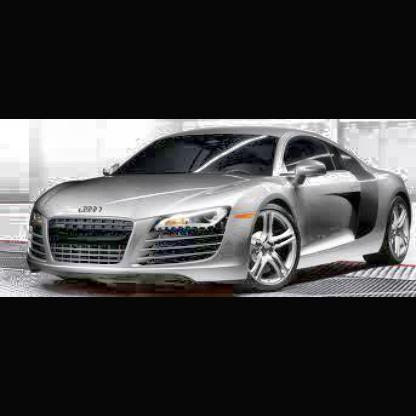Audi R8 Coupe 2012: (26, 127, 414, 296)
